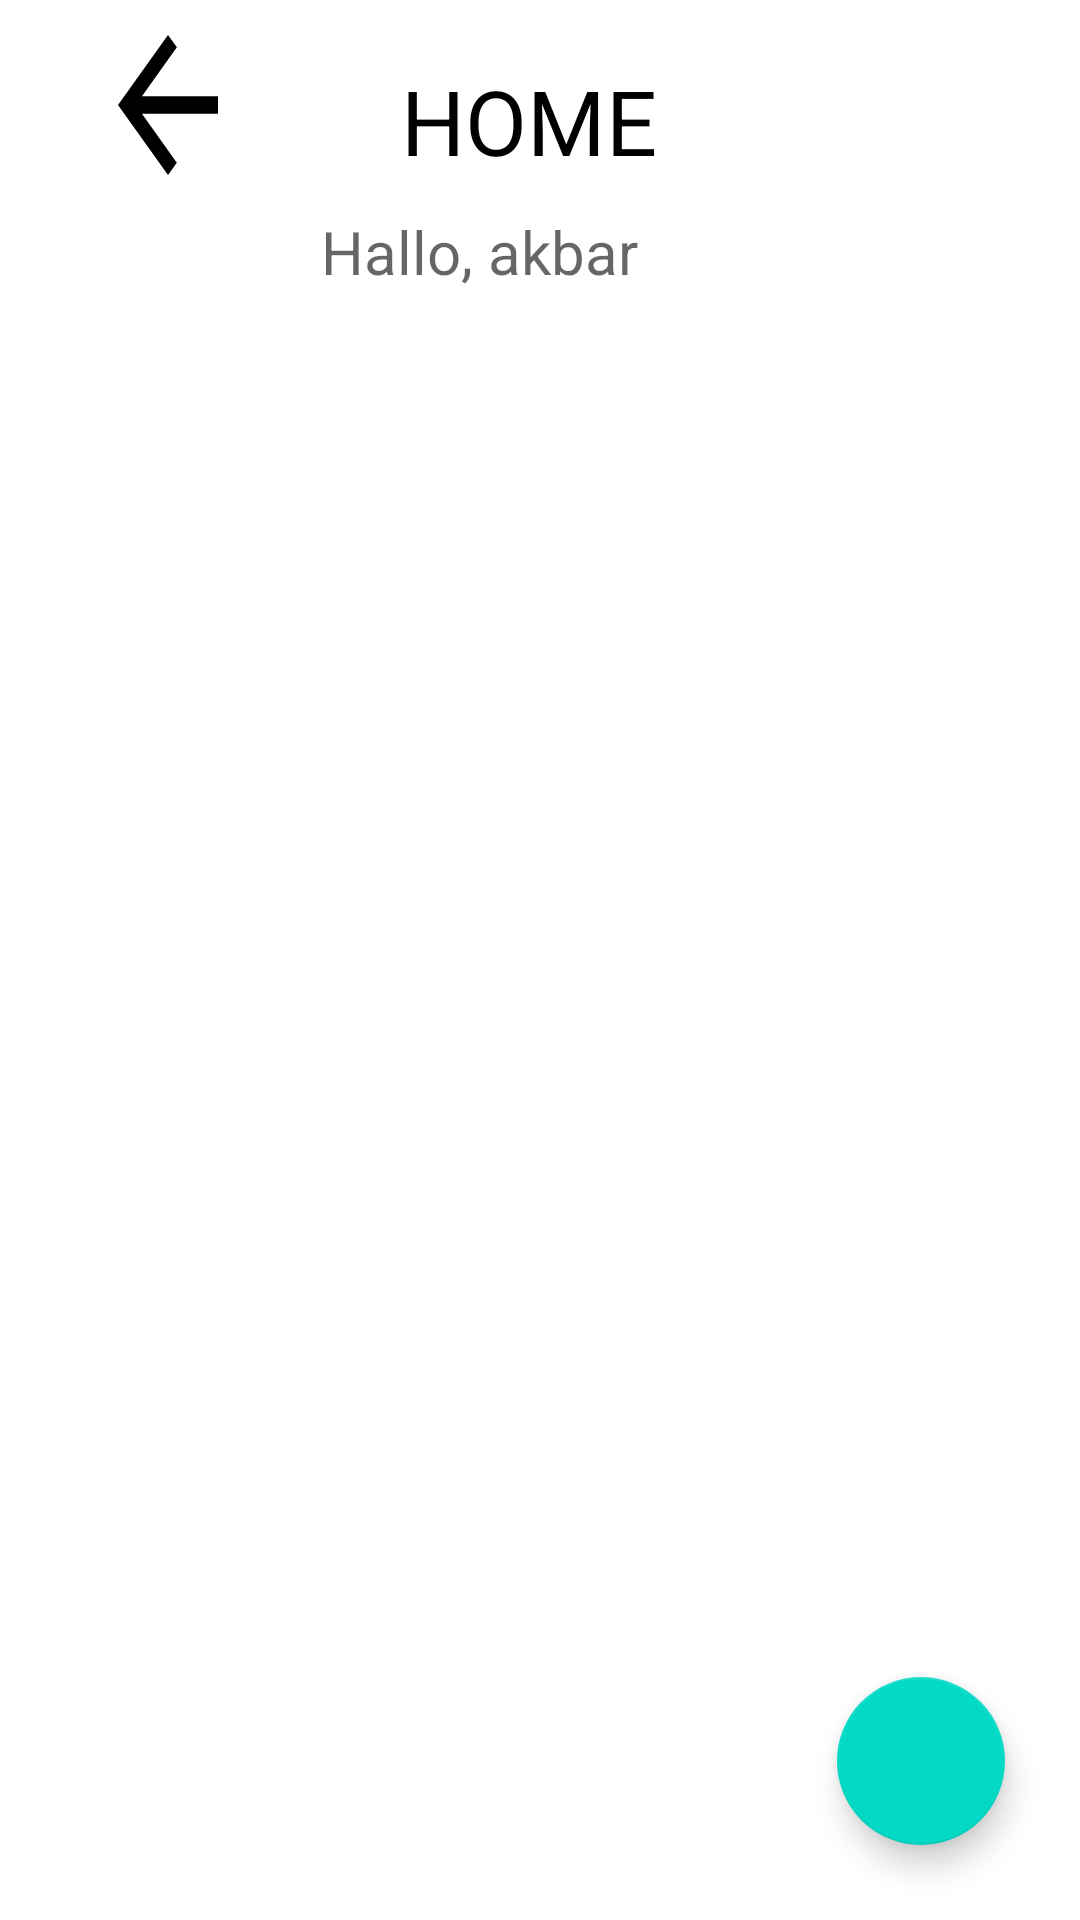

Icon click points for this 1080*1920 phone screenshot, format [x,y]:
arrow back: [168,105]
